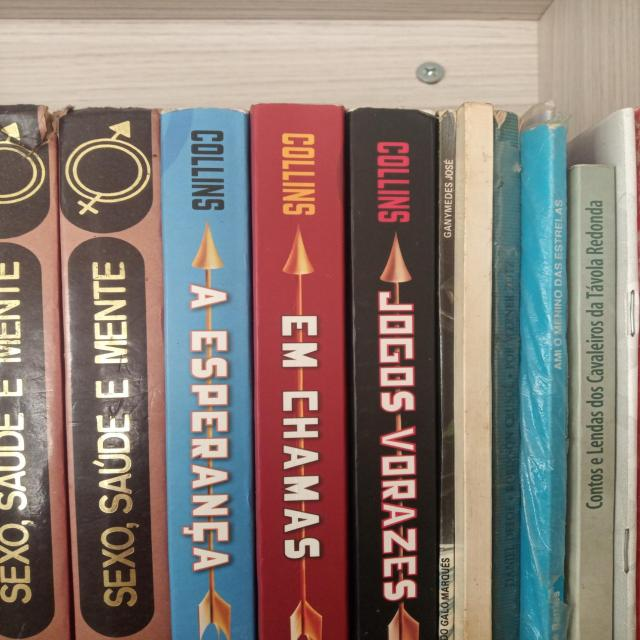book: (62, 112, 155, 638), (255, 112, 336, 634), (350, 115, 430, 638), (164, 111, 244, 633), (3, 112, 53, 636), (576, 162, 615, 638), (463, 102, 487, 640), (496, 110, 518, 640), (546, 127, 566, 636), (441, 113, 454, 639)
